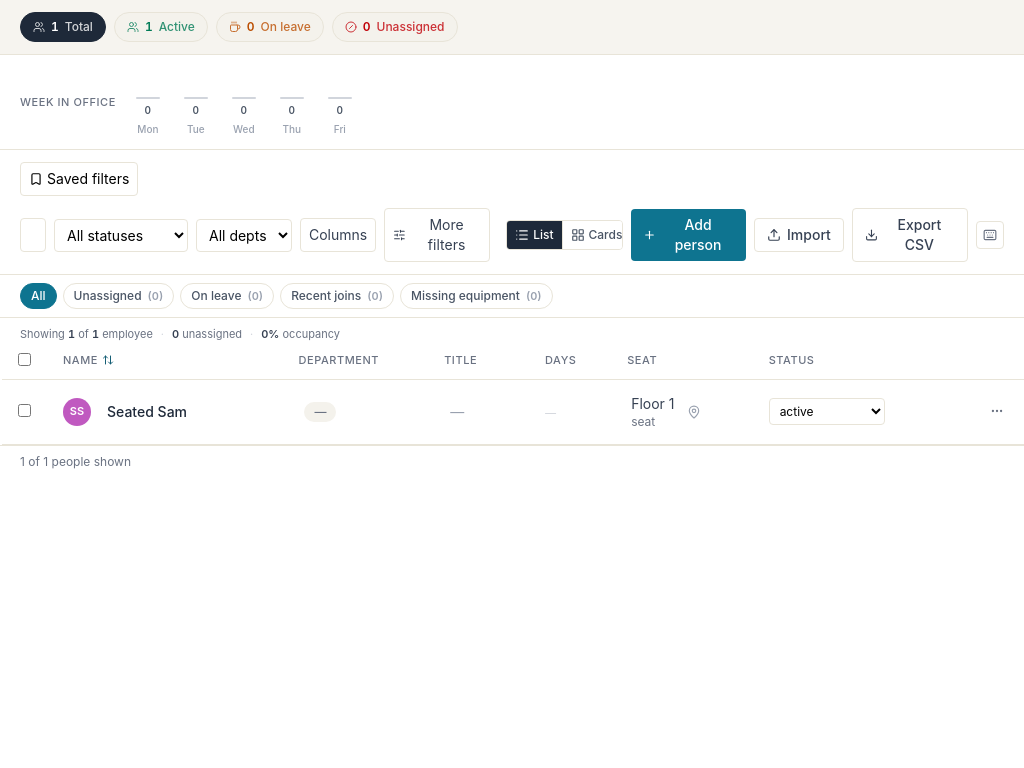
Row Status → departed cascade › cancel keeps the seat held
Step 1. Select "departed" in the dropdown named "Status for Seated Sam" → (827, 412), box [769, 398, 885, 425]
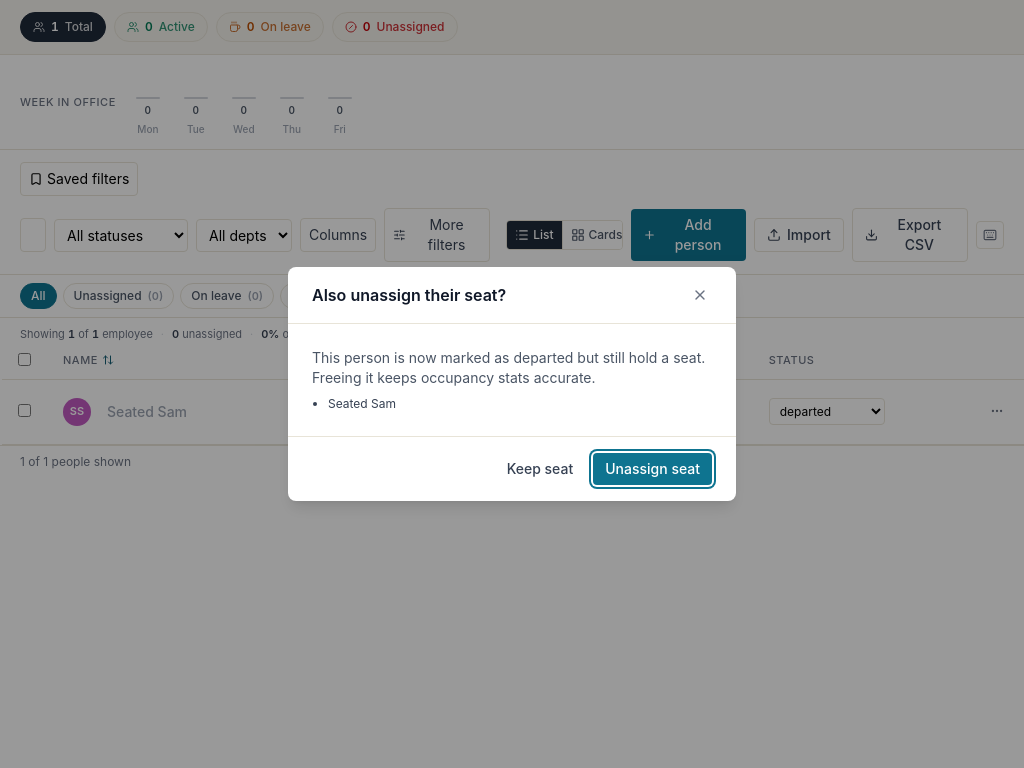
Step 2. Click the button "Keep seat" → (540, 469), box [495, 453, 585, 485]
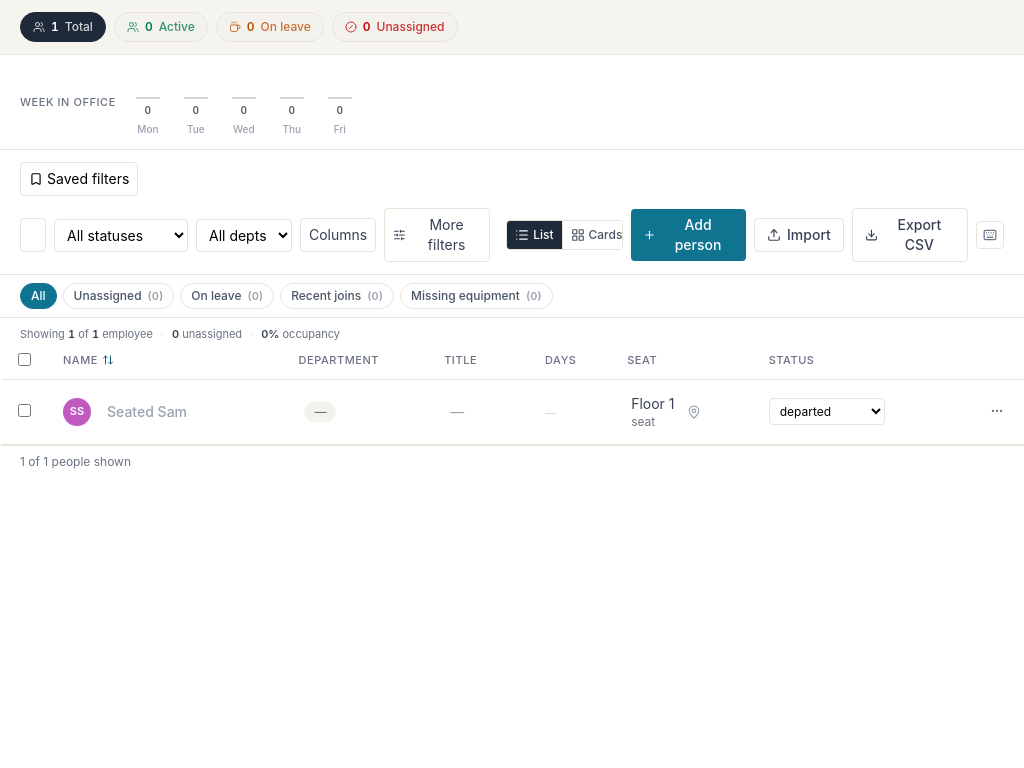
Expected: the dialog is gone
